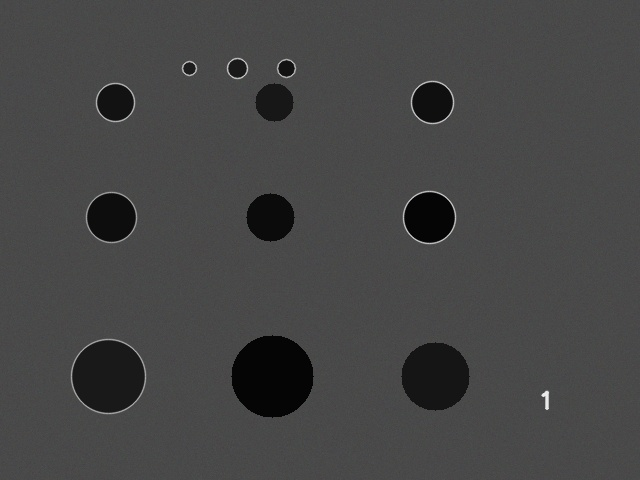hole: (231, 335, 313, 417), (71, 339, 145, 413), (401, 342, 469, 410), (403, 191, 455, 243), (86, 192, 136, 242), (246, 193, 294, 241), (411, 81, 453, 123), (96, 83, 134, 121), (255, 83, 293, 121), (227, 58, 247, 78), (277, 59, 295, 77), (182, 61, 196, 75)
